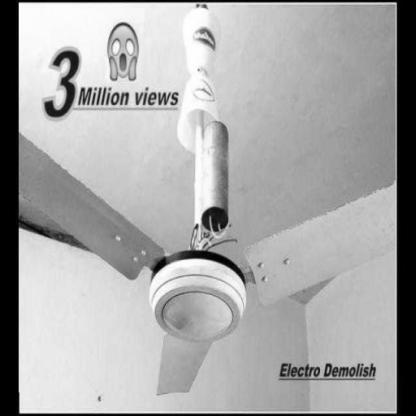ceiling-fan: (19, 2, 395, 393)
